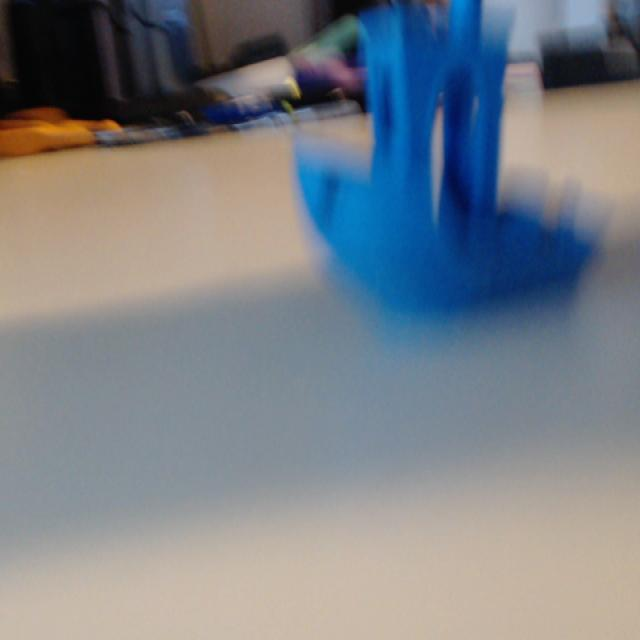benchy: (287, 0, 599, 327)
